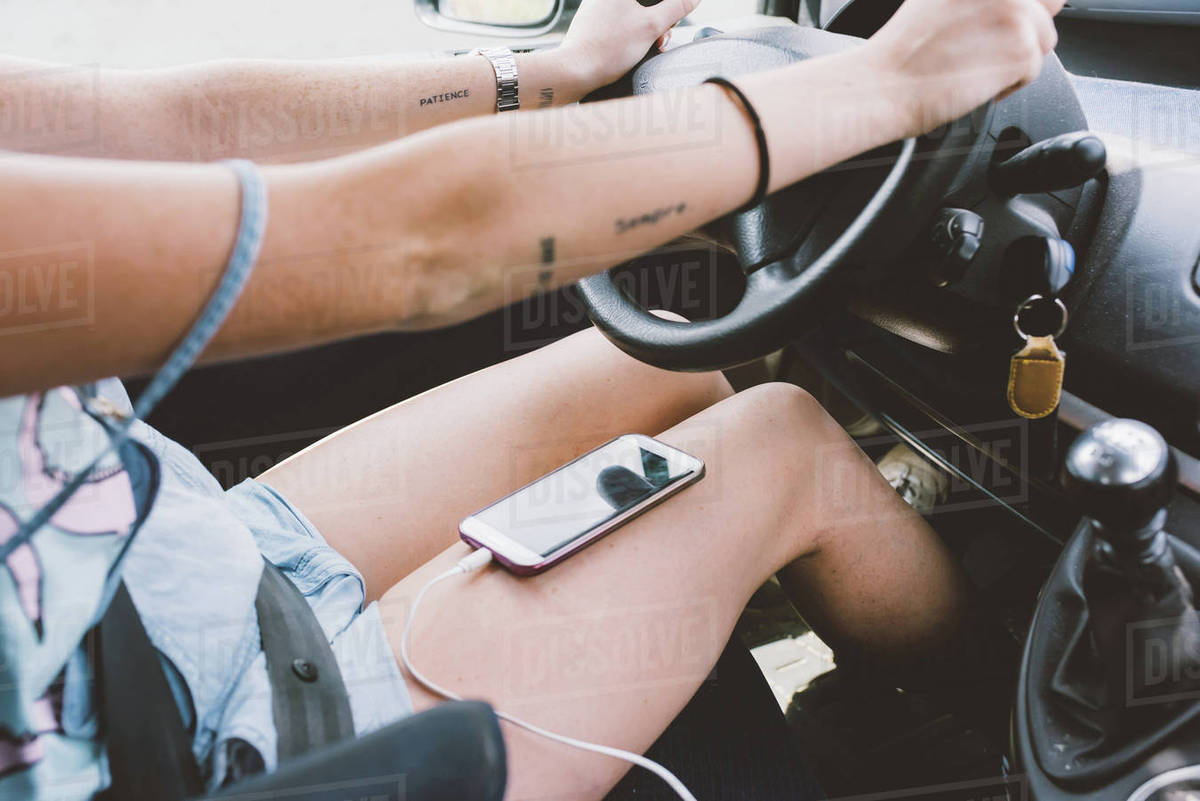Cell Phone: (454, 426, 710, 581)
